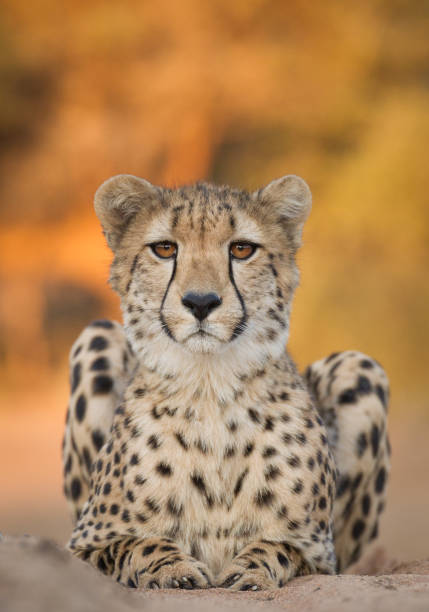cheetah: (67, 141, 321, 400)
